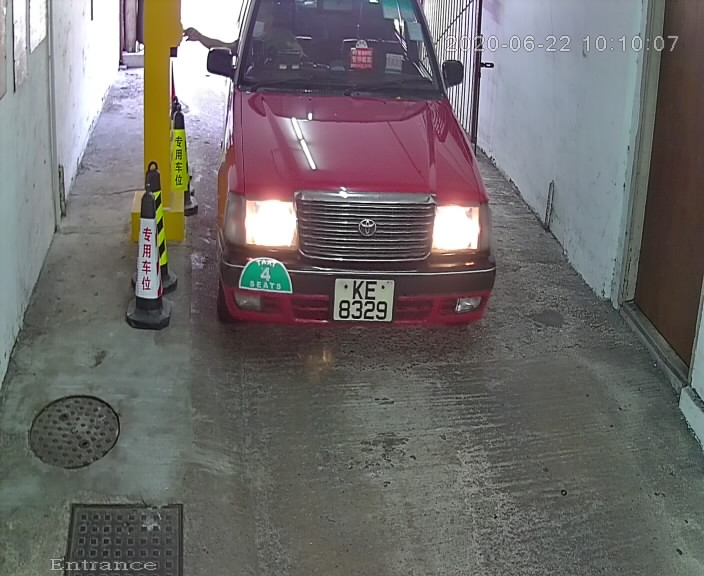taxi: (192, 2, 521, 353)
taxi_mark: (229, 253, 304, 303)
